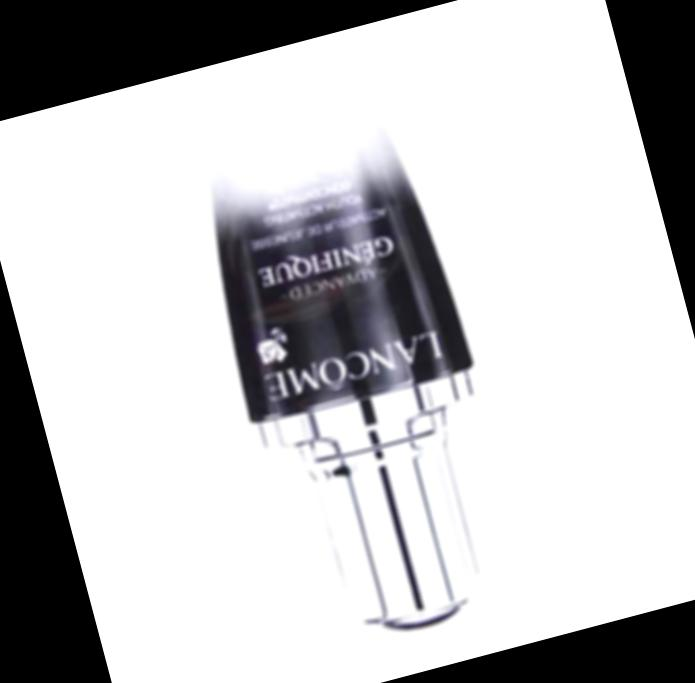cosmetic: (166, 56, 535, 660)
